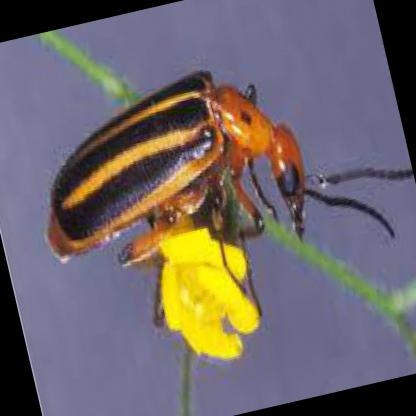blister beetle: (45, 65, 308, 268)
